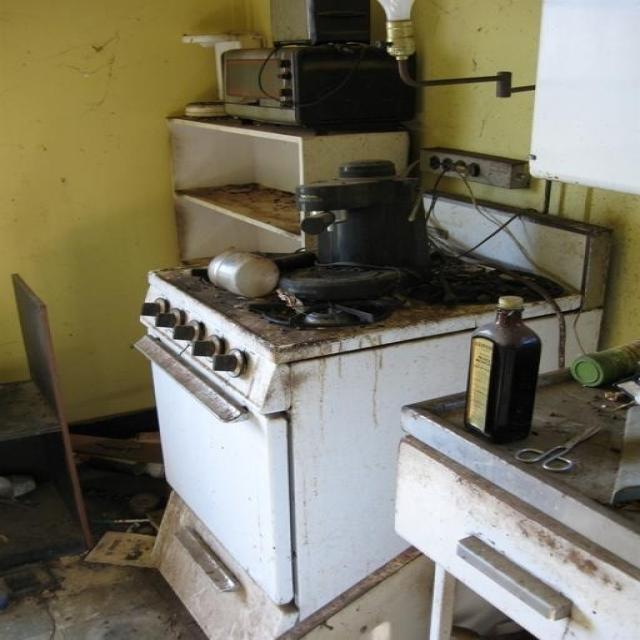E-waste: (103, 219, 400, 620), (185, 0, 433, 139)
Glass: (452, 284, 570, 460)
